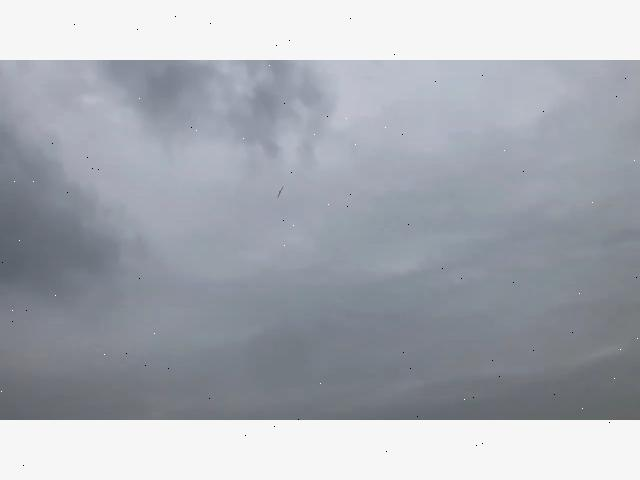Anti-Drone: (270, 184, 290, 200)
